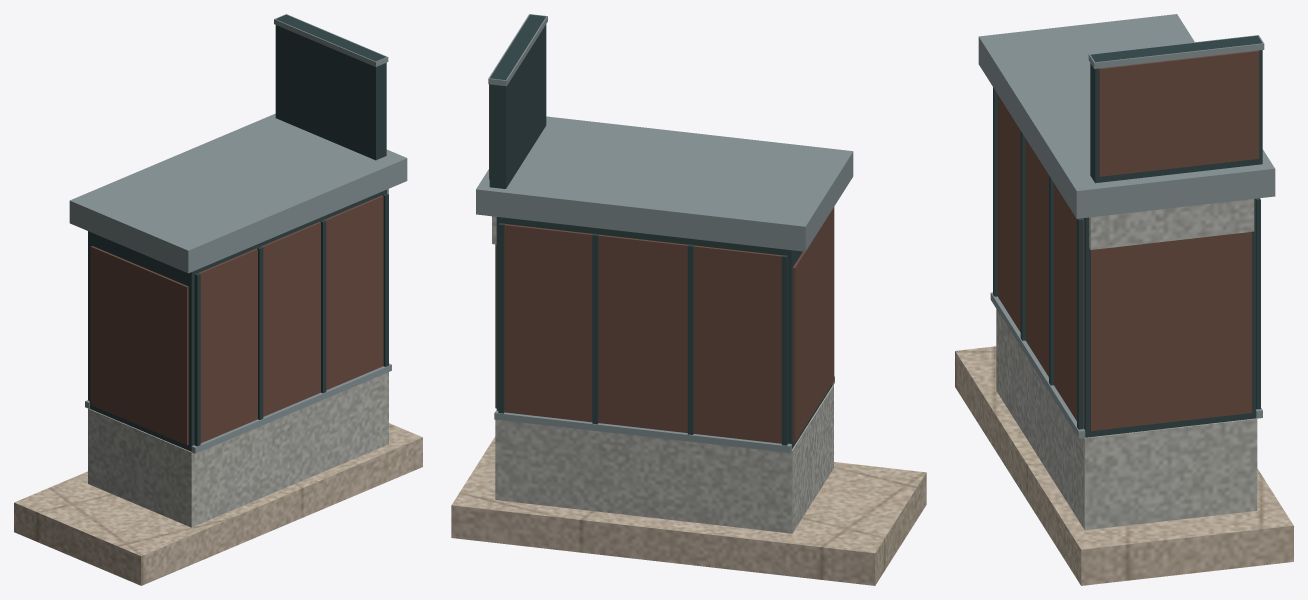
File: donggao-gate.glb
3 renders of one model, left to right at view 1: azimuth 30°, elevation 25°; view 2: azimuth 150°, elevation 25°; view 3: azimuth 270°, elevation 25°, orthographic. The views are drawn at different scales.
Visible parts, largest first — view 1: landmark-donggao-gate; view 2: landmark-donggao-gate; view 3: landmark-donggao-gate.
Part boxes in pixels (left/top/right/bottom): landmark-donggao-gate: left=14, top=14, right=422, bottom=585; landmark-donggao-gate: left=451, top=14, right=926, bottom=585; landmark-donggao-gate: left=955, top=14, right=1293, bottom=585.
Bounding box in the file's own units: 3.95 × 4.18 × 2.54.
Materials: 5 (2 with a texture image).
